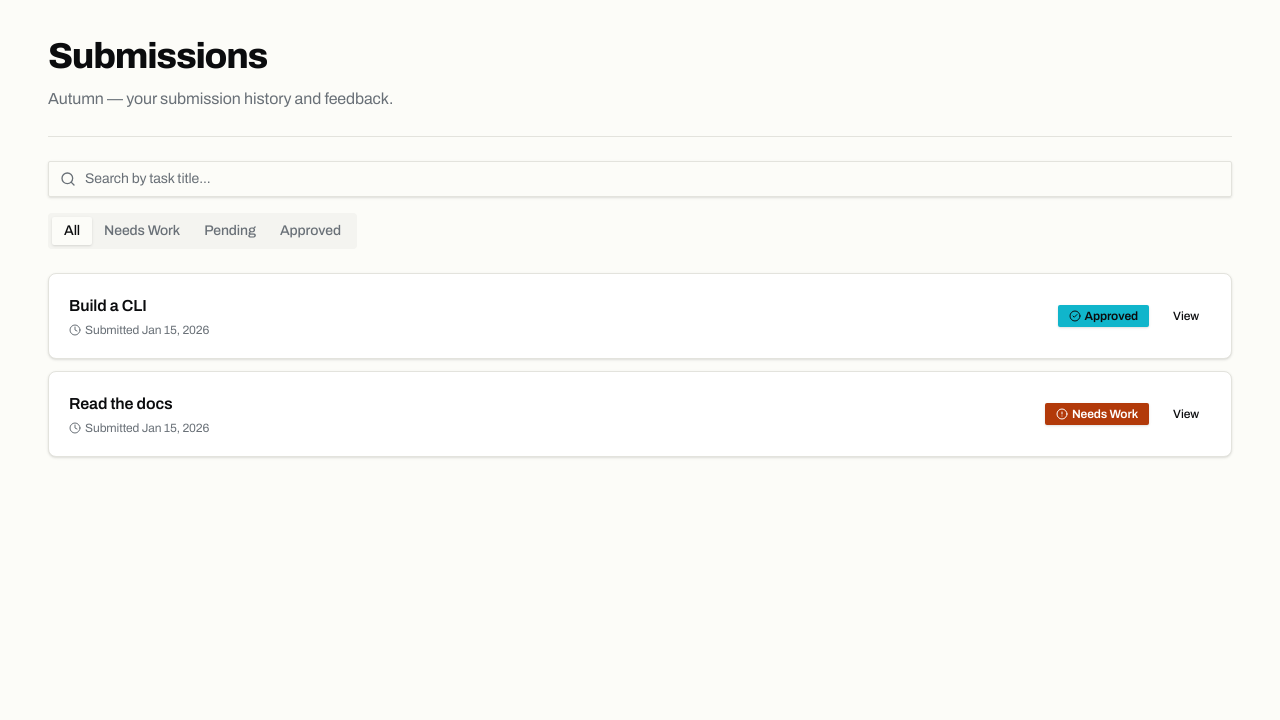
Test: student submissions page › filters by status tab and by task title
The image size is (1280, 720).
Click the tab "Needs Work" at (142, 231), box top-left (92, 217), bottom-right (192, 245)
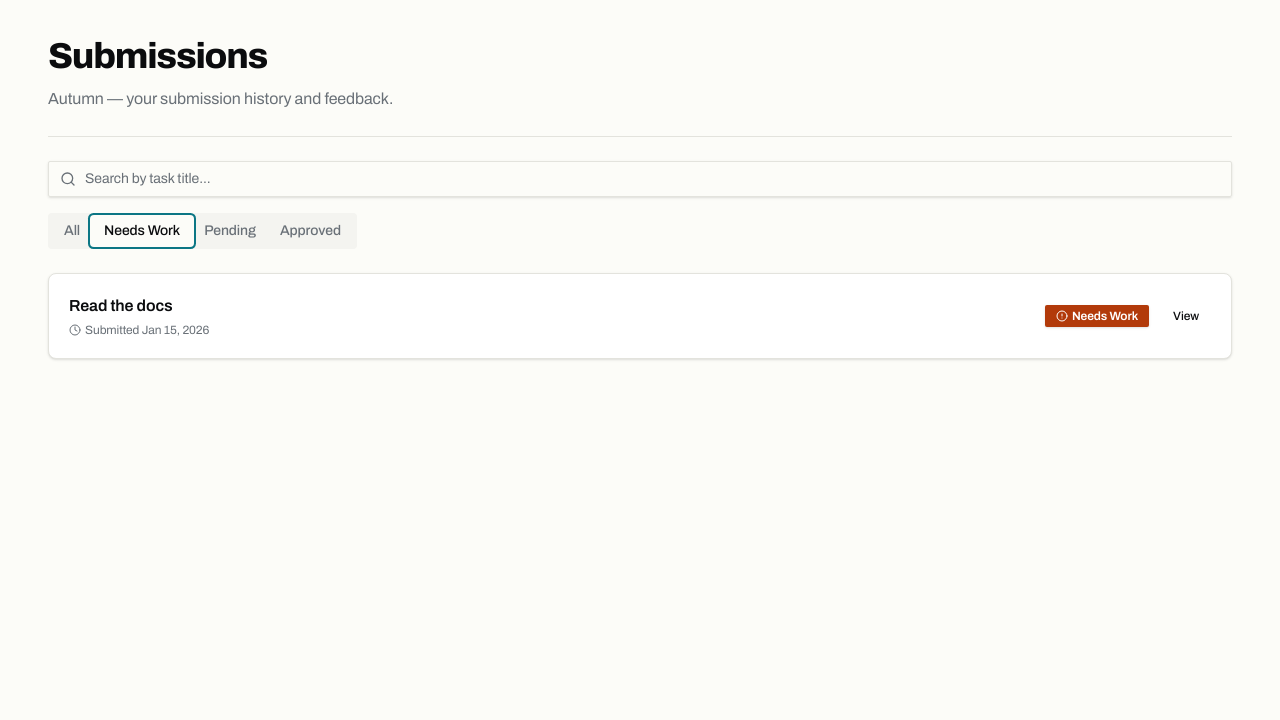
Expected: the text "Read the docs" is shown, top-left (69, 297), bottom-right (173, 314)
Expected: the text "Build a CLI" is gone
Type "quiz" into the field named "Search submissions by task title" at (640, 179), box top-left (48, 161), bottom-right (1232, 197)
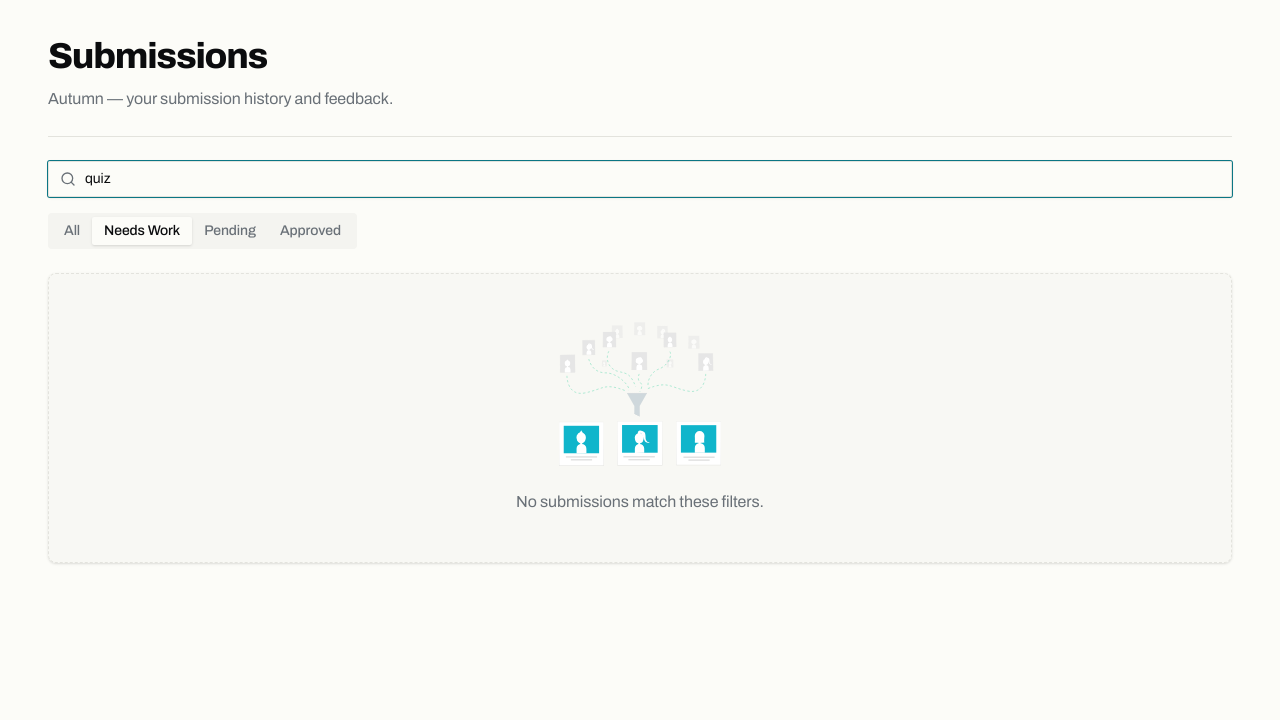
Expected: the text "No submissions match these filters." is shown, top-left (516, 322), bottom-right (764, 510)
